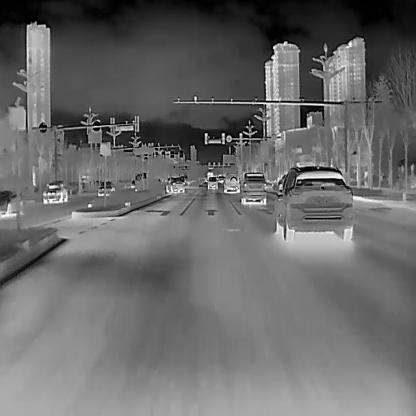car: (273, 165, 352, 240), (239, 172, 265, 203), (42, 179, 67, 203), (0, 189, 23, 214), (222, 172, 240, 194), (97, 180, 114, 195), (166, 178, 184, 192), (207, 176, 217, 190)
